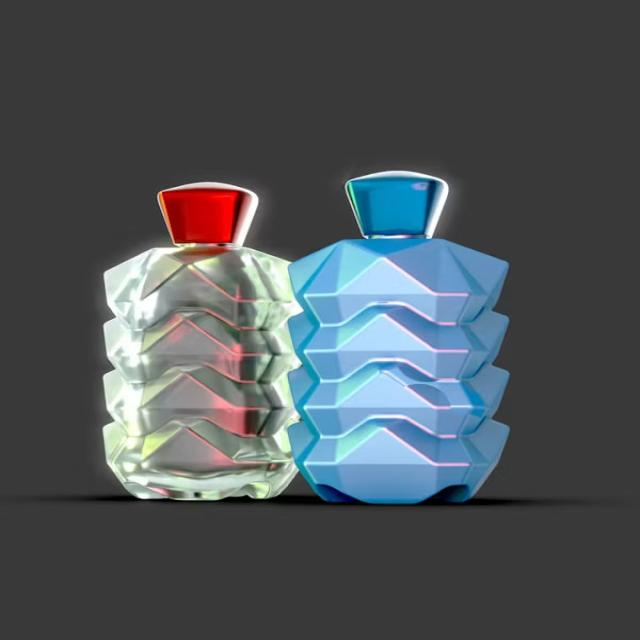Bottle: (288, 172, 508, 503), (104, 183, 299, 500)
